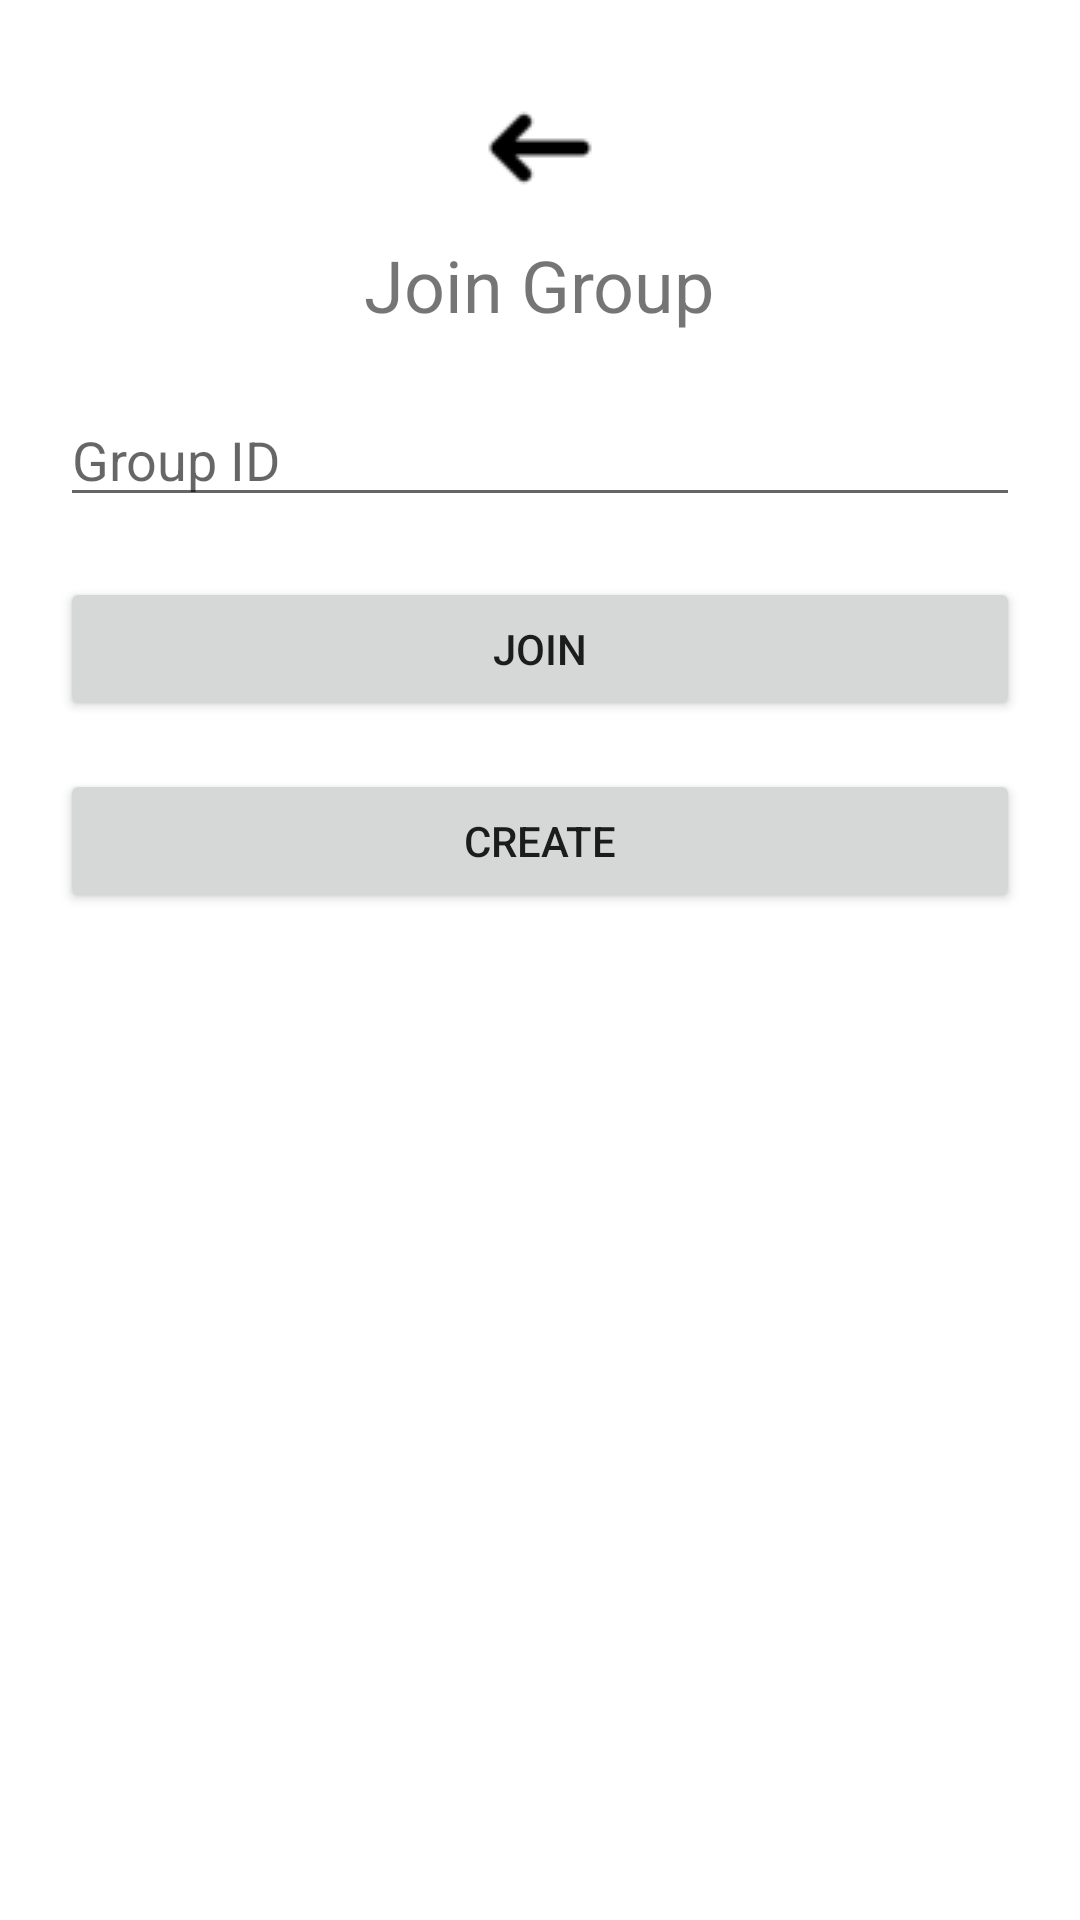

Icons on this 1080px x 1920px Android screen, each with the point to tap as [x,y]:
arrow: [540,148]
